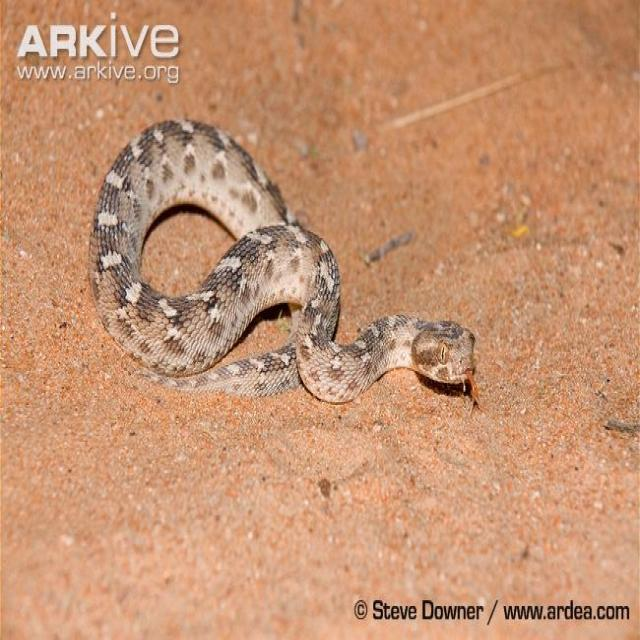Snake: (87, 115, 480, 412)
